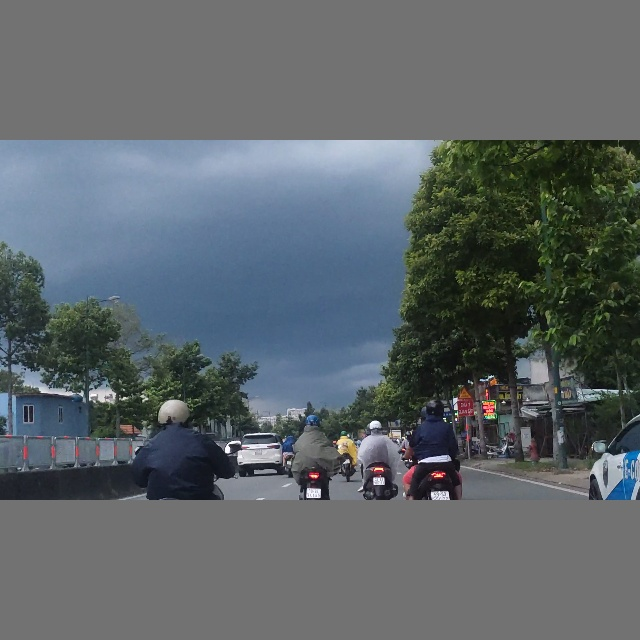W.245a: (457, 387, 472, 399)
